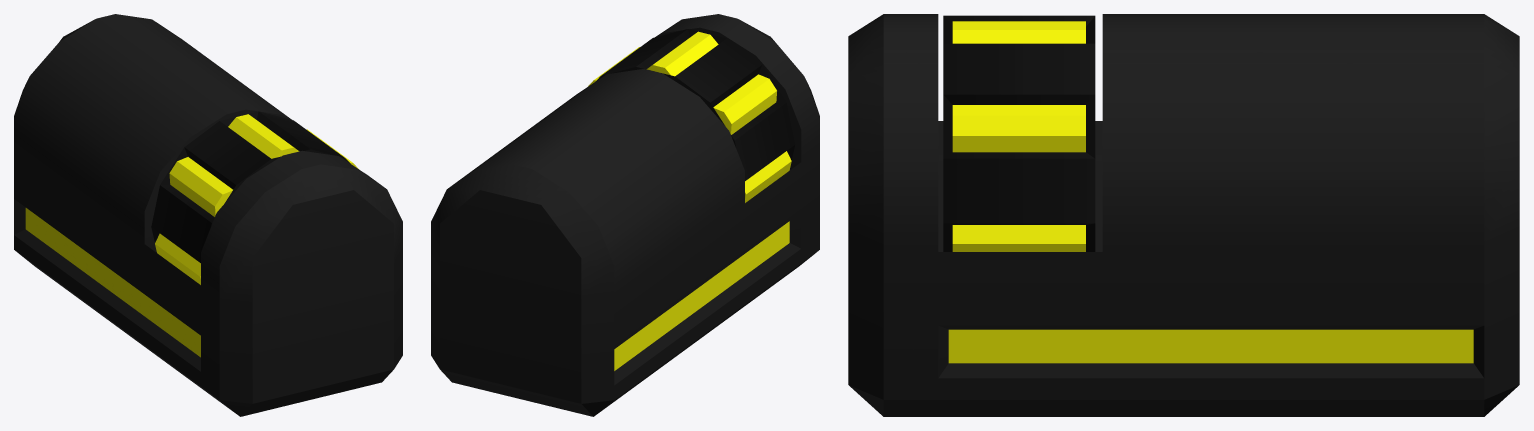
Rendered from Msh_Base_Magazine.FBX.
3 renders of one model, left to right at view 1: azimuth 30°, elevation 25°; view 2: azimuth 150°, elevation 25°; view 3: azimuth 270°, elevation 25°, orthographic. The views are drawn at different scales.
Parts seen in each view (by area): view 1: Msh_Base_Magazine, Msh_Base_MagazineB; view 2: Msh_Base_Magazine, Msh_Base_MagazineB; view 3: Msh_Base_Magazine, Msh_Base_MagazineB.
Part boxes in pixels (x1,y1,x2,y2): Msh_Base_Magazine: (14,14,402,416); Msh_Base_MagazineB: (151,111,358,284); Msh_Base_Magazine: (431,14,819,416); Msh_Base_MagazineB: (588,29,795,202); Msh_Base_Magazine: (848,14,1519,416); Msh_Base_MagazineB: (943,15,1095,251).
Bounding box in the file's own units: 5.91 × 12.81 × 7.18.
